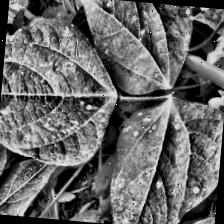Bean Rust: (0, 11, 125, 170), (107, 92, 224, 224), (61, 0, 196, 100)
